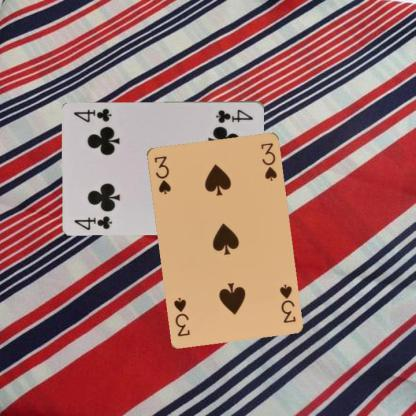3s: (151, 152, 172, 196), (276, 281, 297, 324)
4c: (72, 213, 113, 231), (213, 107, 254, 124)
